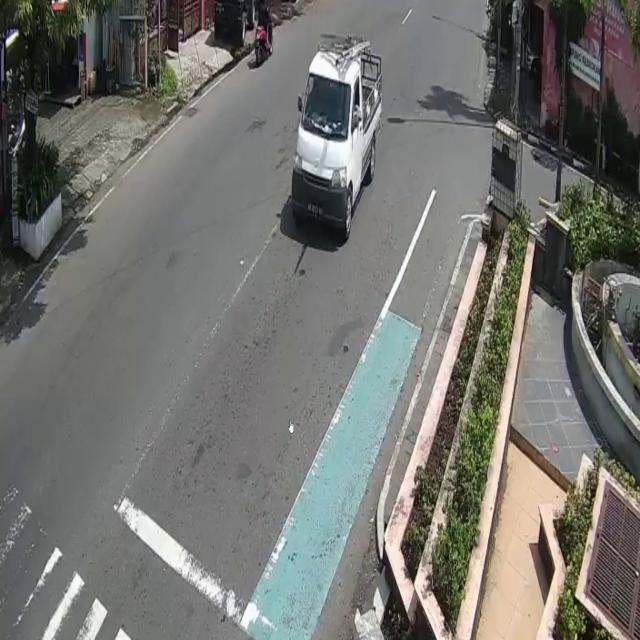car: (292, 49, 381, 238)
